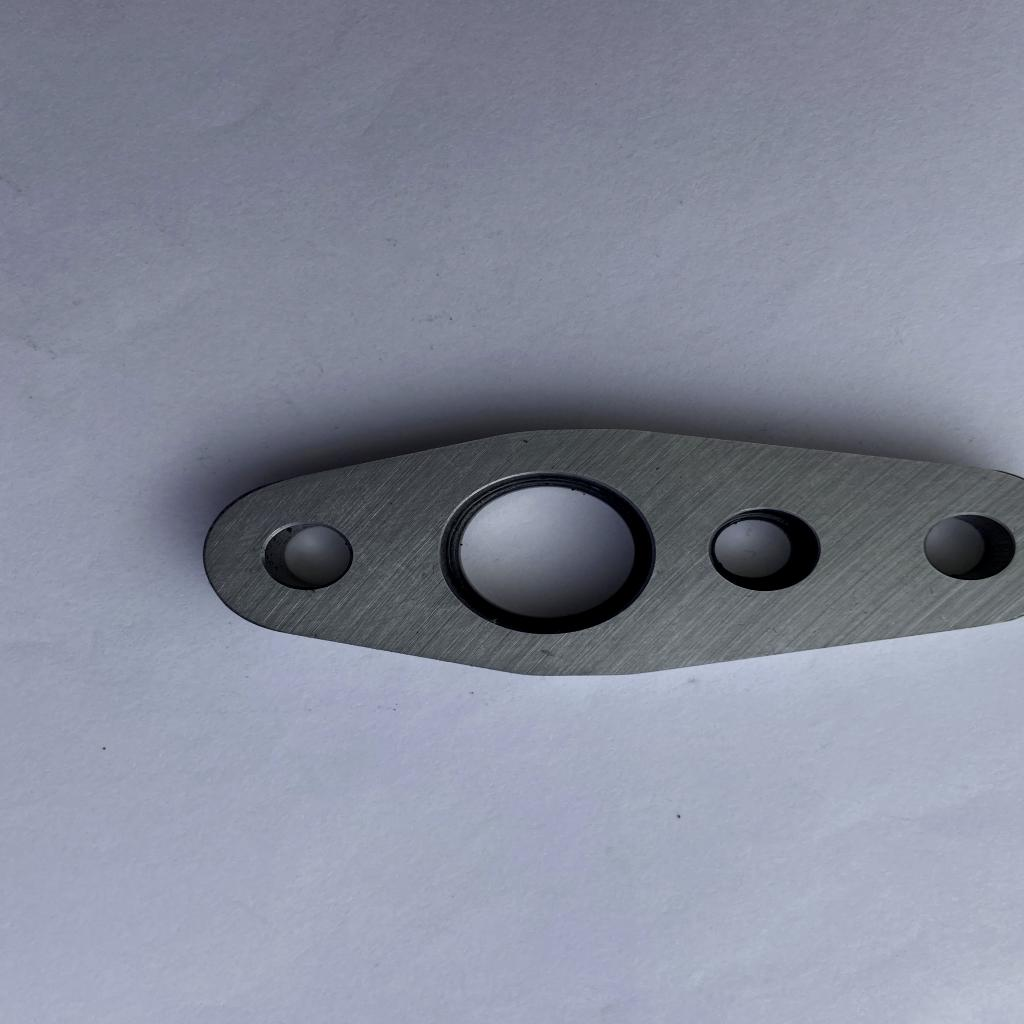chap: (743, 591, 754, 599)
lines: (534, 646, 578, 666), (520, 436, 532, 446)
